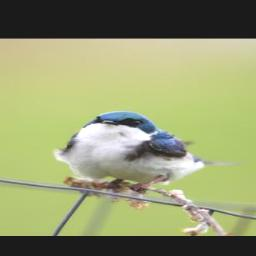Swallow: (51, 110, 247, 194)
